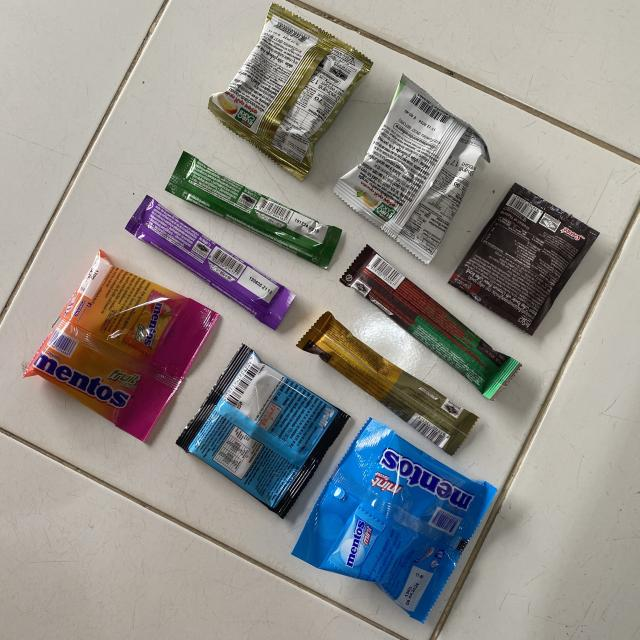plastik: (292, 419, 496, 622), (24, 251, 219, 440), (334, 75, 490, 264), (178, 346, 349, 516), (209, 4, 372, 180), (340, 245, 520, 399), (298, 312, 478, 455), (450, 184, 599, 335), (126, 196, 295, 329), (165, 151, 341, 269)
